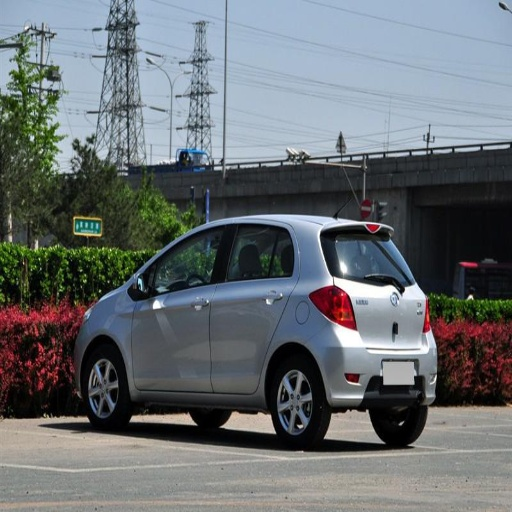back_bumper: (309, 322, 437, 406)
back_glass: (321, 228, 409, 283)
back_left_door: (210, 224, 292, 390)
tailgate: (338, 281, 421, 343)
trunk: (356, 287, 424, 350)
